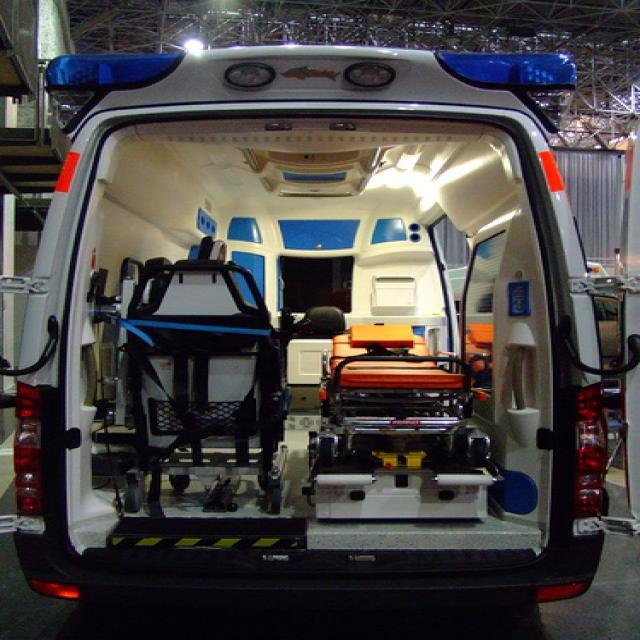emergency-vehicle: (29, 115, 608, 602)
